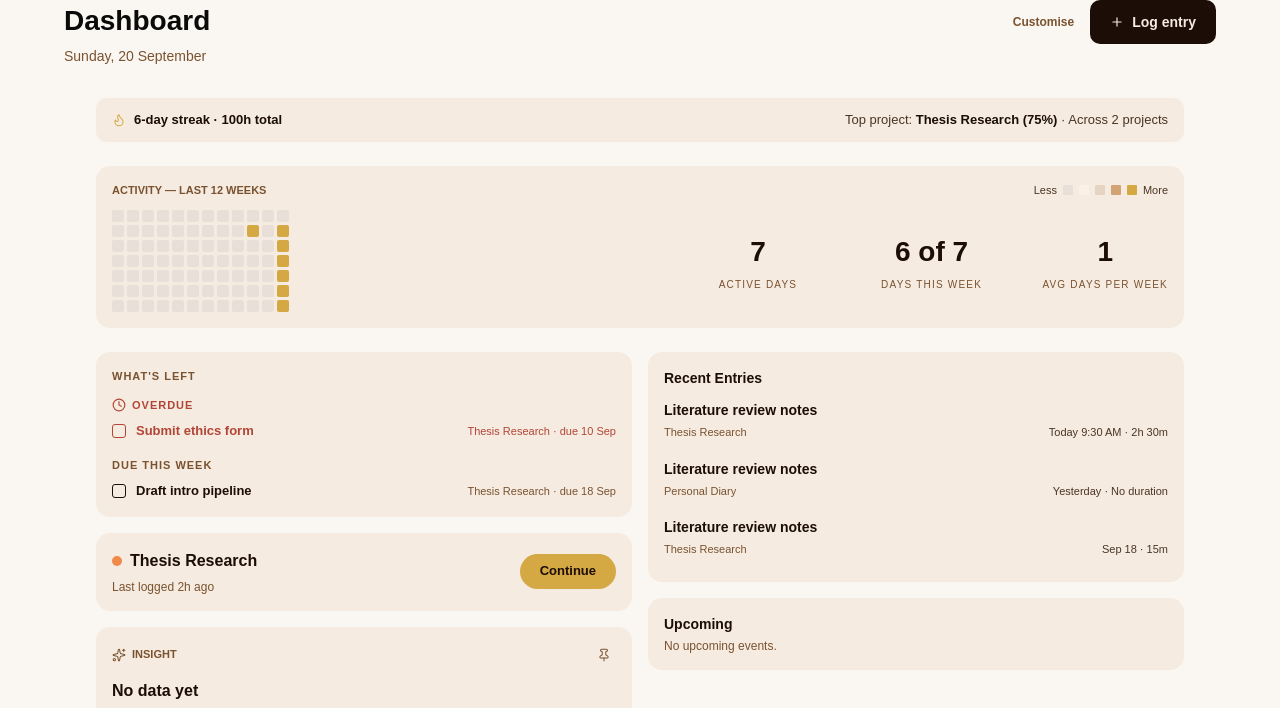
Test: DashboardPage › groups open items and marks one done in place
This screenshot has width=1280, height=708.
Check: the text "Submit ethics form" is shown, box [136, 423, 254, 438]
Check: the headings read "Overdue", "Due this week", in this order, box [112, 398, 193, 412]; [112, 458, 212, 470]
Click the checkbox named "Mark Submit ethics form done" at (119, 431), box [112, 424, 126, 438]
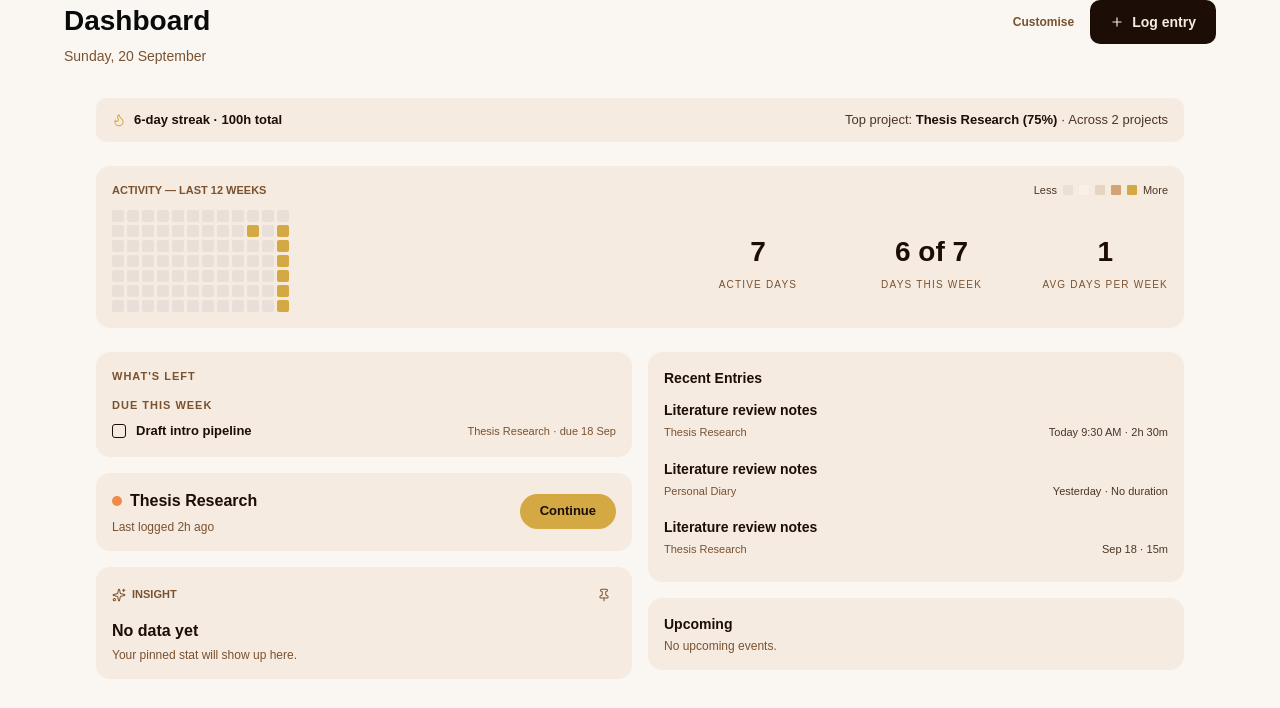
Check: the text "Draft intro pipeline" is shown, box [136, 423, 252, 438]
Check: the text "Submit ethics form" is gone
